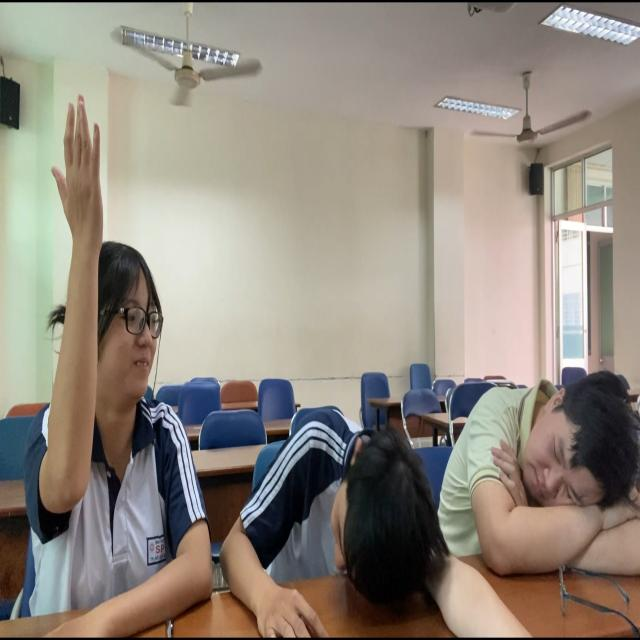raise_hand: (26, 92, 166, 635)
sleep: (220, 410, 444, 640), (445, 370, 640, 575)
